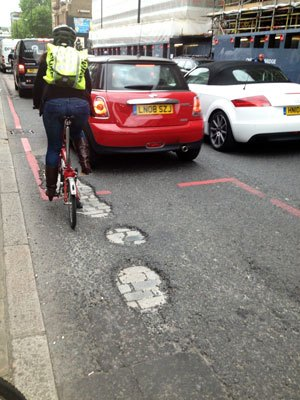pothole: (101, 259, 190, 332), (48, 170, 123, 205), (92, 225, 177, 255)
